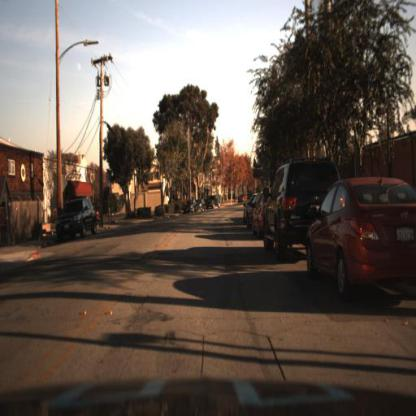car: (306, 174, 415, 300), (261, 153, 342, 259), (262, 158, 308, 265), (50, 191, 100, 246), (251, 186, 267, 239), (205, 190, 225, 211), (182, 196, 198, 217), (196, 195, 206, 214)
